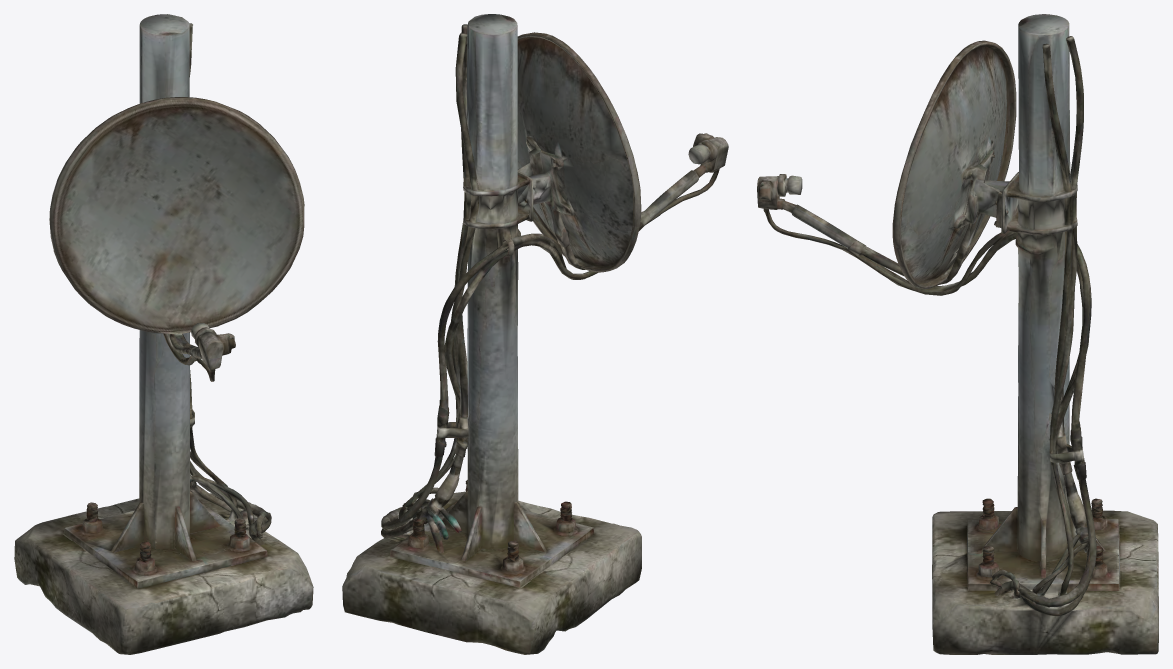
File: dish.glb
3 views of the same model, side by side, from view 1: azimuth 30°, elevation 25°; view 2: azimuth 150°, elevation 25°; view 3: azimuth 270°, elevation 25° (orthographic). The views are drawn at different scales.
Bounding box in the file's own units: 0.8216 × 1.9 × 1.19.
1 material, 1 textured.
